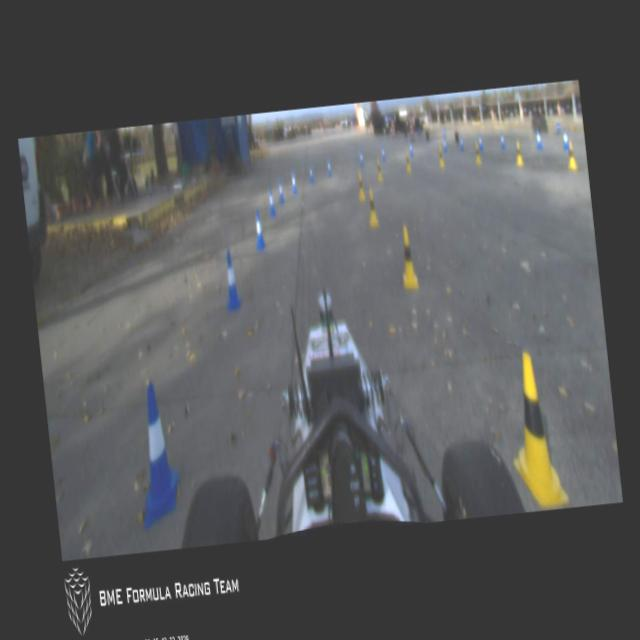blue_cone: (128, 381, 184, 523), (220, 248, 242, 312), (252, 210, 264, 248), (276, 175, 286, 207), (266, 186, 276, 214), (288, 166, 298, 193), (306, 162, 314, 184), (379, 143, 387, 165), (534, 126, 542, 148), (324, 156, 332, 176), (498, 130, 506, 150), (561, 126, 568, 148), (476, 134, 484, 152), (442, 131, 448, 150), (358, 149, 364, 168), (458, 134, 464, 152), (408, 140, 414, 156)
yellow_cone: (500, 344, 570, 510), (398, 222, 418, 291), (366, 187, 378, 226), (354, 168, 366, 204), (565, 136, 577, 170), (513, 138, 523, 166), (472, 141, 481, 166), (404, 150, 412, 172), (436, 146, 444, 168), (374, 158, 382, 180)
